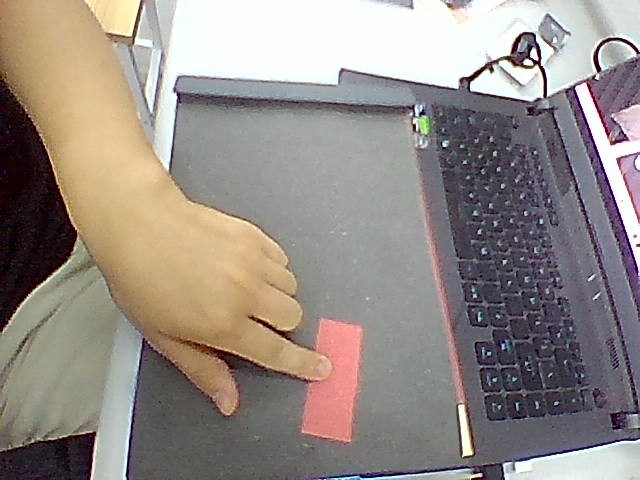card: (301, 319, 362, 443)
